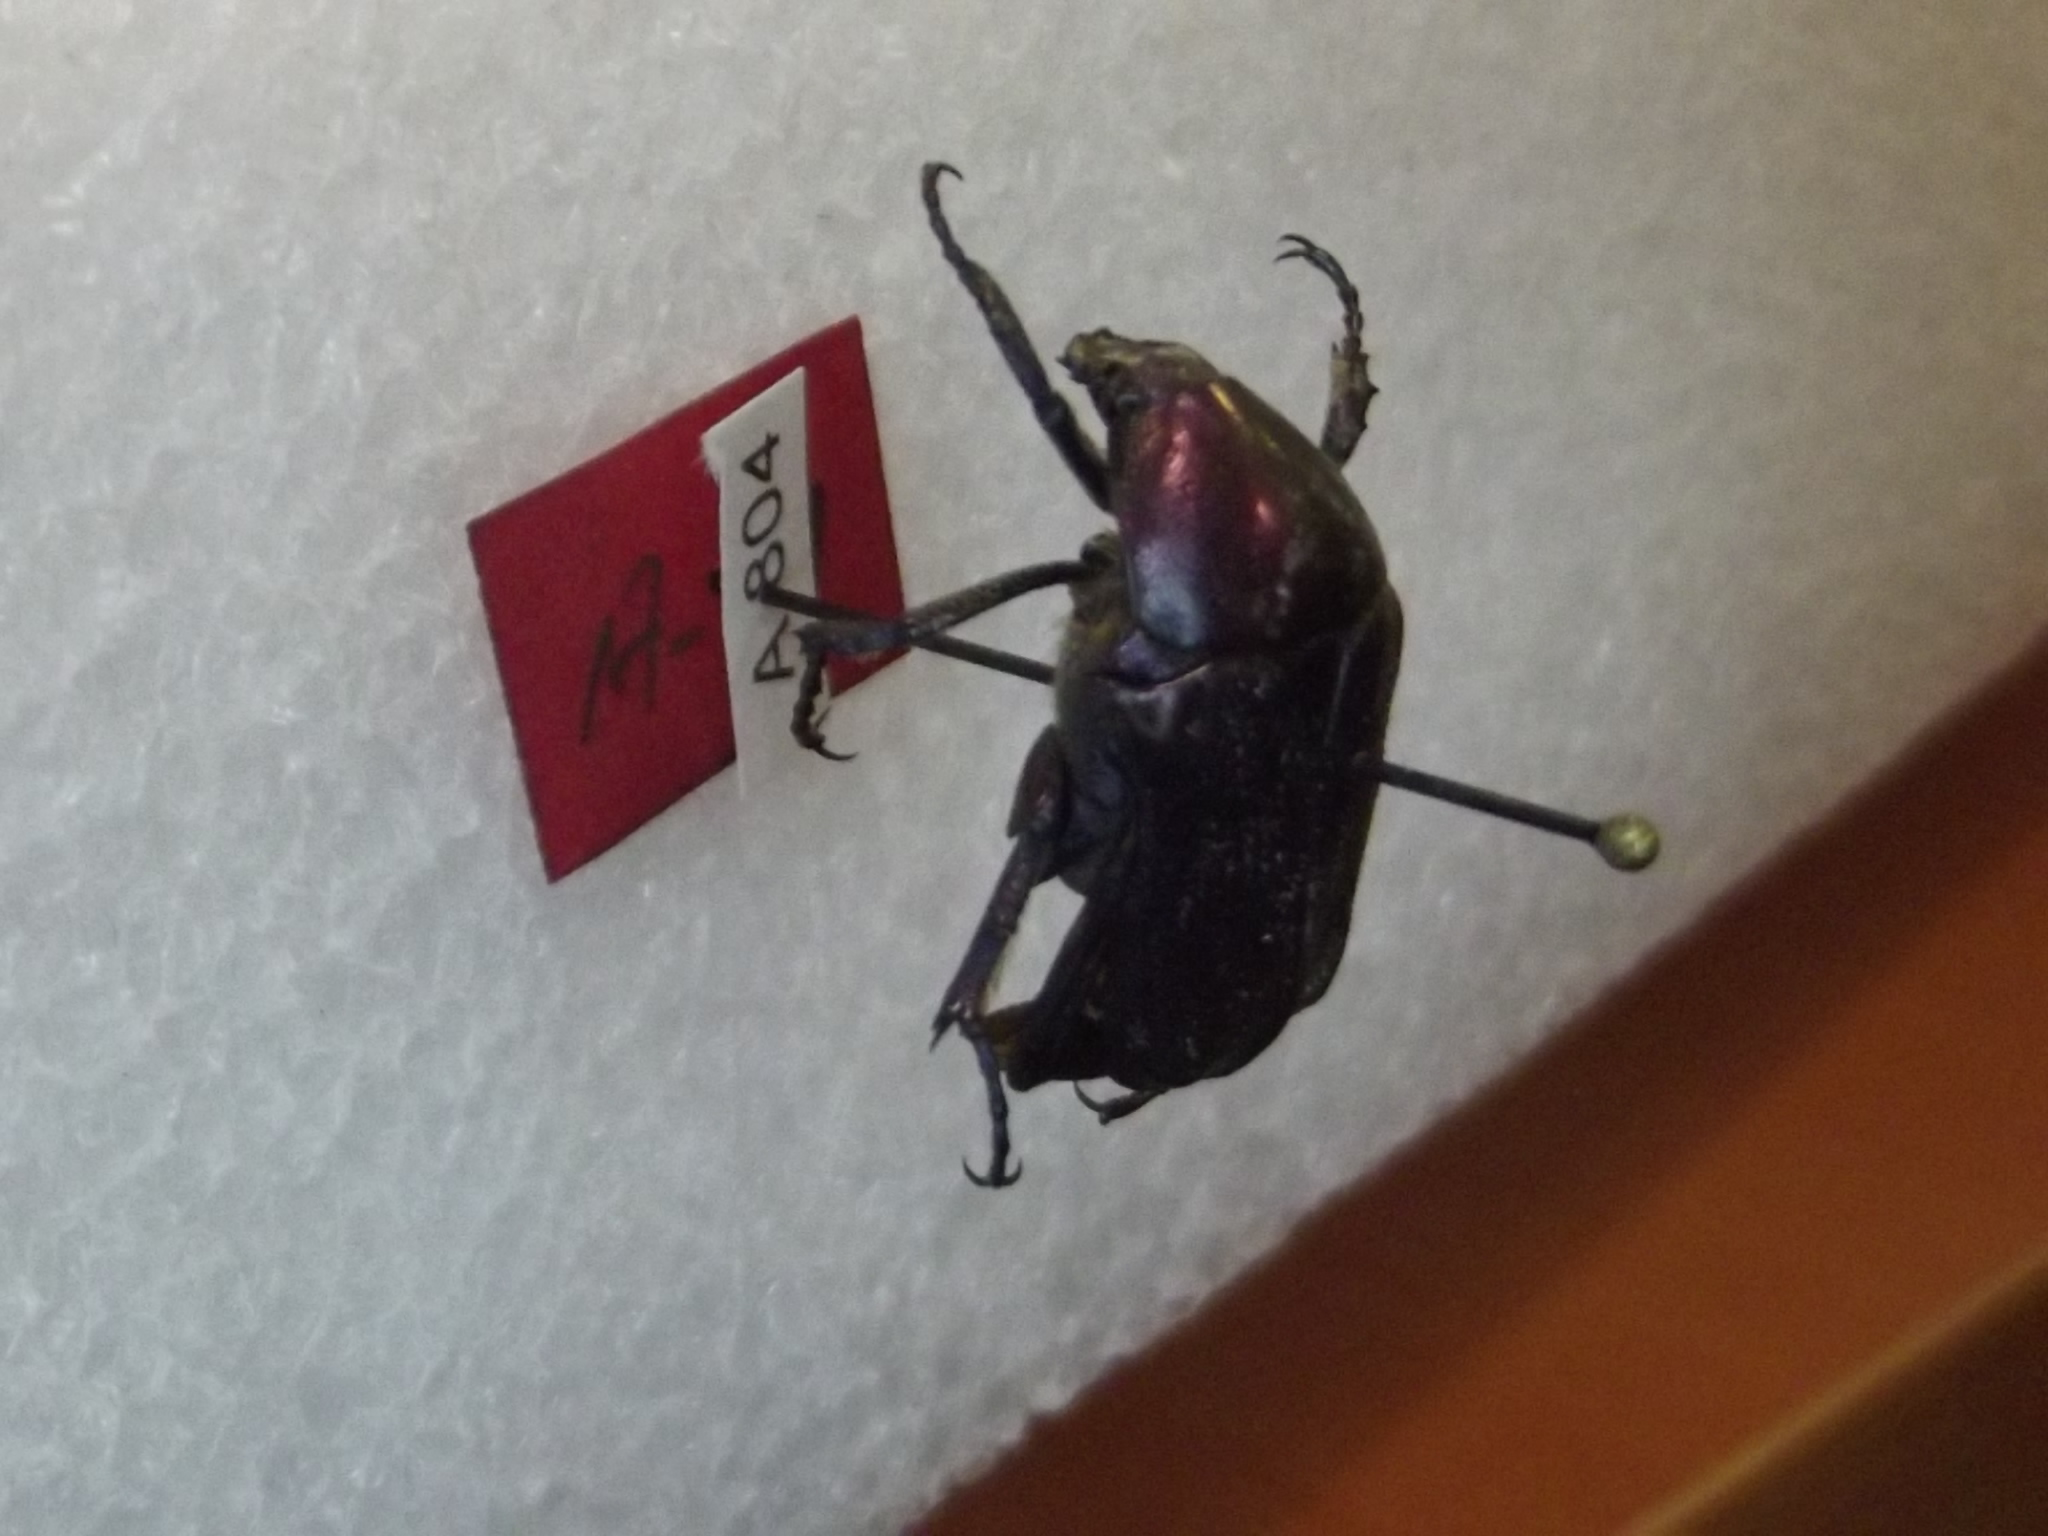Protaetia_besucheti: (763, 140, 1443, 1221)
